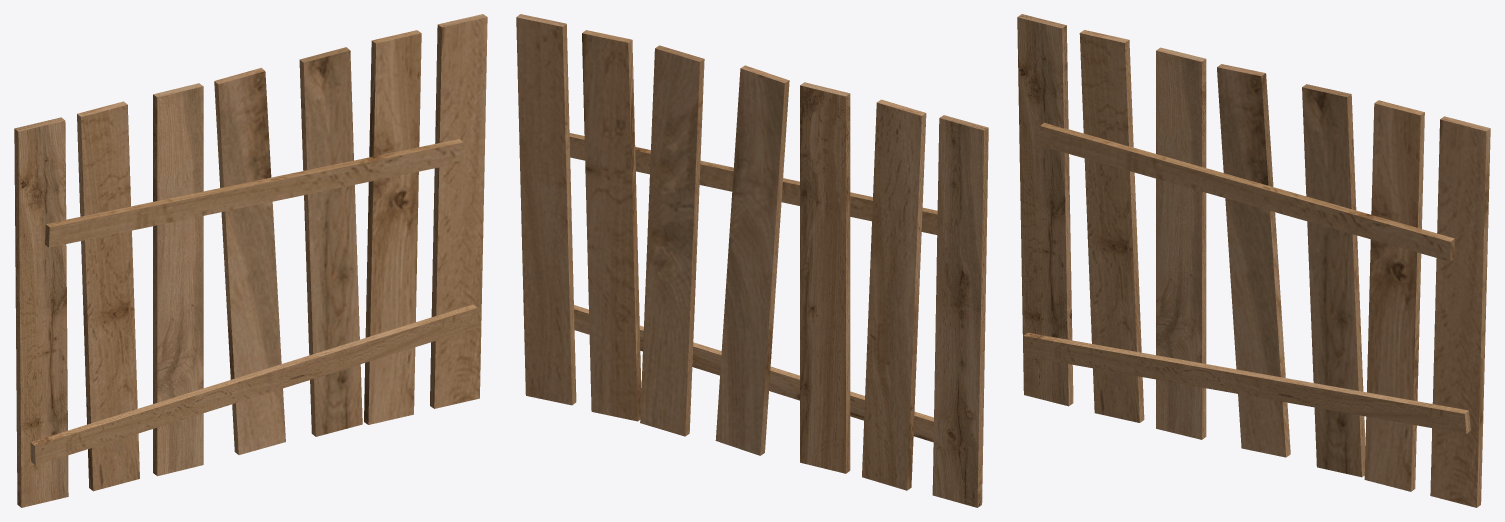
Rendered from fence.glb.
3 views of the same model, side by side, from view 1: azimuth 30°, elevation 25°; view 2: azimuth 150°, elevation 25°; view 3: azimuth 330°, elevation 25° (orthographic).
Visible parts, largest first — view 1: Cube.006, Cube.004, Cube.001, Cube.002, Cube.005, Cube, Cube.003, Cube.007, Cube.008; view 2: Cube.004, Cube.003, Cube, Cube.002, Cube.005, Cube.006, Cube.001, Cube.008, Cube.007; view 3: Cube.004, Cube.006, Cube.003, Cube, Cube.005, Cube.002, Cube.001, Cube.007, Cube.008.
Boxes of the visible parts, x1,y1,x2,y2 form: Cube.006: (14, 117, 68, 507); Cube.004: (430, 14, 487, 408); Cube.001: (214, 67, 285, 454); Cube.002: (299, 47, 362, 436); Cube.005: (77, 101, 139, 491); Cube: (153, 83, 203, 476); Cube.003: (364, 30, 421, 424); Cube.007: (30, 304, 478, 465); Cube.008: (45, 139, 463, 247); Cube.004: (516, 14, 576, 405); Cube.003: (582, 30, 641, 421); Cube: (800, 82, 850, 473); Cube.002: (640, 45, 704, 436); Cube.005: (862, 99, 926, 490); Cube.006: (932, 115, 988, 507); Cube.001: (715, 65, 789, 455); Cube.008: (569, 133, 937, 234); Cube.007: (574, 305, 933, 442); Cube.004: (1430, 116, 1490, 507); Cube.006: (1017, 14, 1073, 406); Cube.003: (1364, 100, 1424, 491); Cube: (1156, 47, 1206, 439); Cube.005: (1079, 30, 1144, 422); Cube.002: (1302, 84, 1365, 477); Cube.001: (1217, 64, 1290, 457); Cube.007: (1023, 332, 1470, 434); Cube.008: (1040, 122, 1454, 261).
Size of the model in its own units: 2.52 by 1.96 by 0.1123.
1 material, 1 textured.
